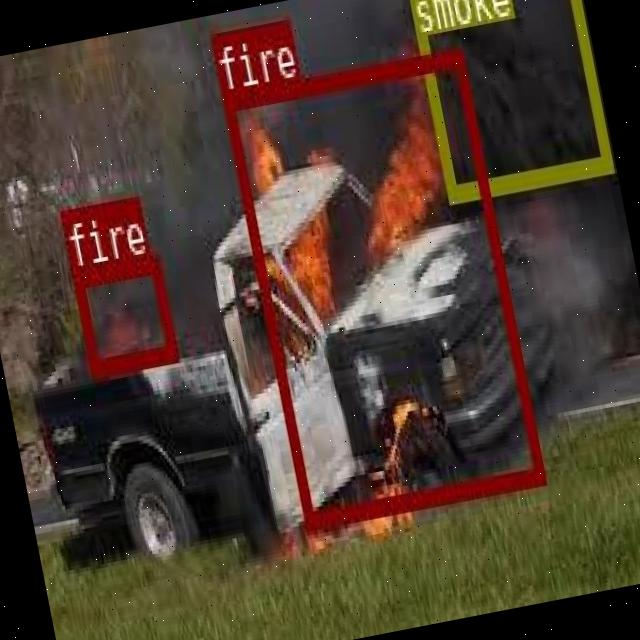fire: (222, 48, 544, 526), (71, 255, 177, 376)
smoke: (404, 0, 612, 202)
